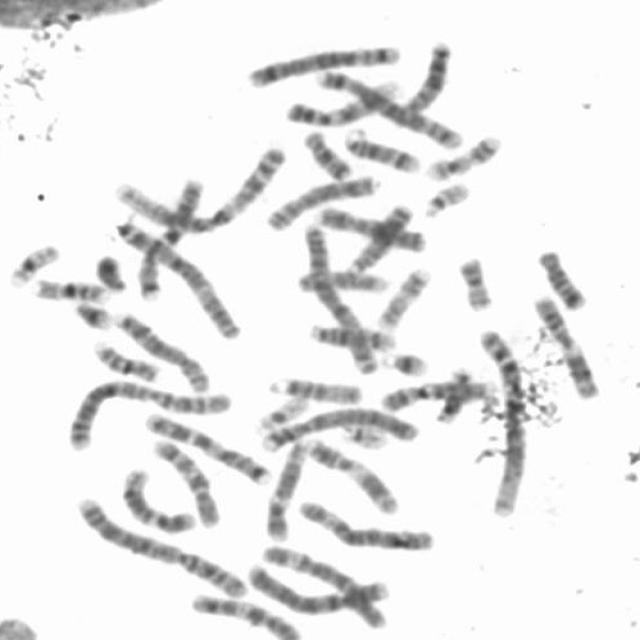A1: (106, 139, 290, 235), (472, 320, 531, 521)
A2: (70, 490, 252, 600), (60, 374, 234, 451)
A3: (109, 214, 244, 340), (297, 217, 383, 375)
B4: (241, 555, 393, 623), (254, 400, 423, 454)
B5: (312, 63, 466, 150), (241, 38, 404, 89)
C10: (146, 432, 224, 529), (185, 586, 302, 640)
C11: (299, 430, 404, 516), (529, 290, 604, 402)
C12: (114, 461, 199, 535), (260, 434, 310, 542)
C6: (252, 538, 392, 631), (292, 493, 438, 553)
C7: (139, 407, 273, 488), (130, 171, 208, 302)
C8: (109, 305, 213, 395), (262, 168, 384, 232)
C9: (278, 71, 406, 129), (375, 374, 500, 413)
D13: (342, 198, 417, 276), (398, 34, 455, 115)
D14: (339, 122, 423, 174), (302, 317, 398, 353)
D15: (264, 370, 366, 406), (290, 264, 391, 295)
E16: (87, 335, 163, 383), (30, 272, 111, 304)
E17: (421, 128, 505, 182), (372, 260, 433, 332)
E18: (532, 242, 590, 312), (298, 124, 355, 181)
F19: (1, 236, 63, 289), (256, 390, 310, 437)
F20: (452, 250, 498, 313), (432, 366, 476, 424)
G21: (376, 344, 432, 379), (68, 294, 117, 332)
G22: (417, 176, 473, 219), (338, 417, 388, 451)
X: (313, 200, 428, 253)
Y: (90, 249, 130, 294)
